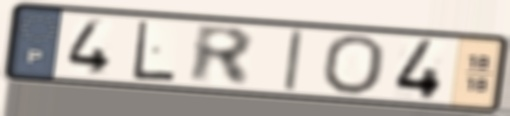4: (391, 37, 445, 102), (64, 18, 115, 77)
I: (280, 28, 306, 94)
L: (131, 18, 178, 83)
O: (319, 33, 389, 97)
R: (187, 22, 256, 89)
